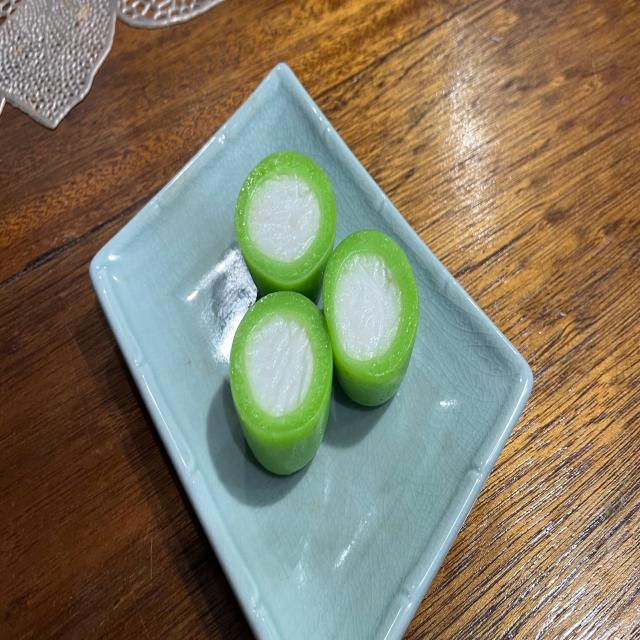nona-manis: (230, 291, 332, 476), (322, 229, 419, 407), (235, 151, 336, 302)
